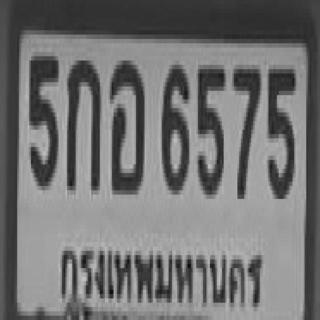A01: (65, 56, 100, 186)
A43: (108, 54, 143, 188)
N05: (28, 50, 57, 184), (196, 59, 224, 192), (267, 65, 294, 195)
N06: (160, 58, 188, 188)
N07: (232, 63, 260, 192)
P04: (54, 230, 268, 320)
